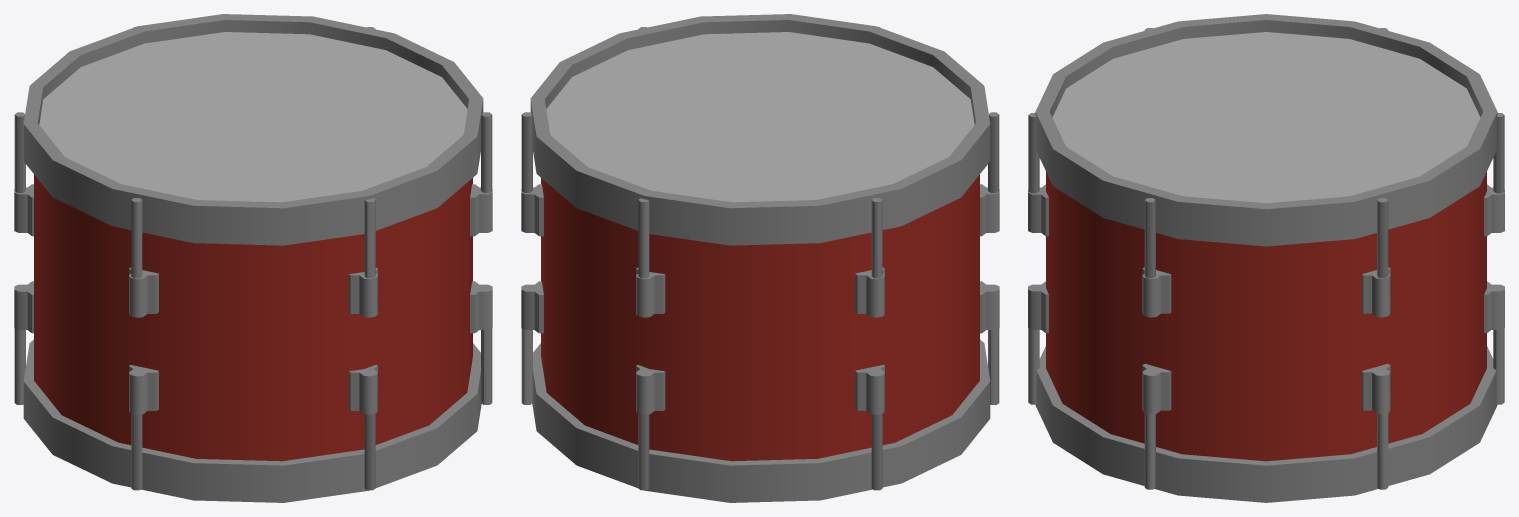
The model's file is SingleDrum_01.fbx.
3 renders of one model, left to right at view 1: azimuth 30°, elevation 25°; view 2: azimuth 150°, elevation 25°; view 3: azimuth 270°, elevation 25°, orthographic.
Visible parts, largest first — view 1: SingleDrum_01; view 2: SingleDrum_01; view 3: SingleDrum_01.
Boxes of the visible parts, box(x1,y1,x2,y2) form: SingleDrum_01: box(14, 14, 492, 502); SingleDrum_01: box(521, 14, 999, 502); SingleDrum_01: box(1028, 14, 1504, 502).
Bounding box in the file's own units: 0.4537 × 0.3182 × 0.4683.
